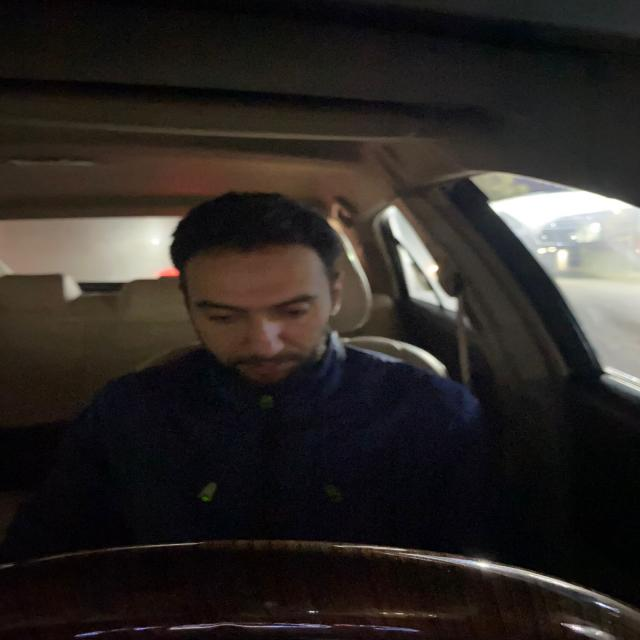person: (167, 191, 351, 393)
